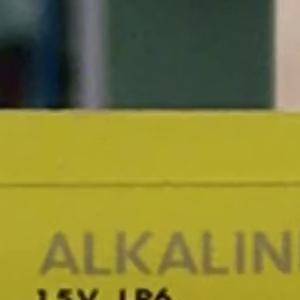keyword: (33, 236, 150, 283)
